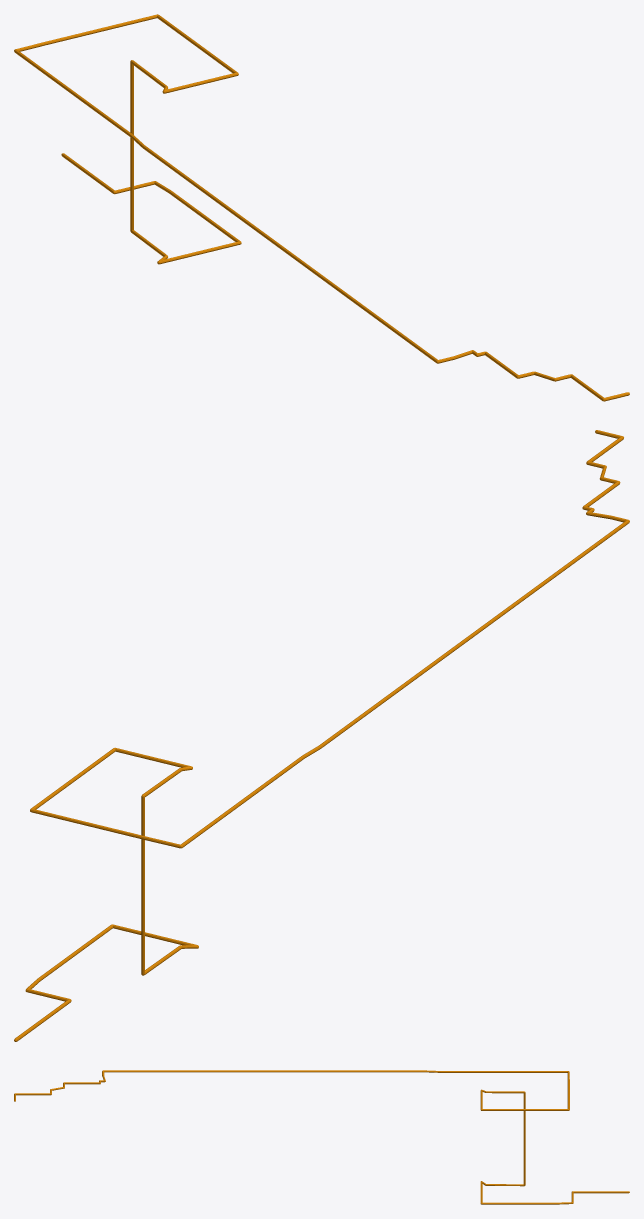
3 views of the same model, one above another, from view 1: azimuth 30°, elevation 25°; view 2: azimuth 150°, elevation 25°; view 3: azimuth 270°, elevation 25° (orthographic). The views are drawn at different scales.
Size of the model in its own units: 928 by 1020 by 6013.
